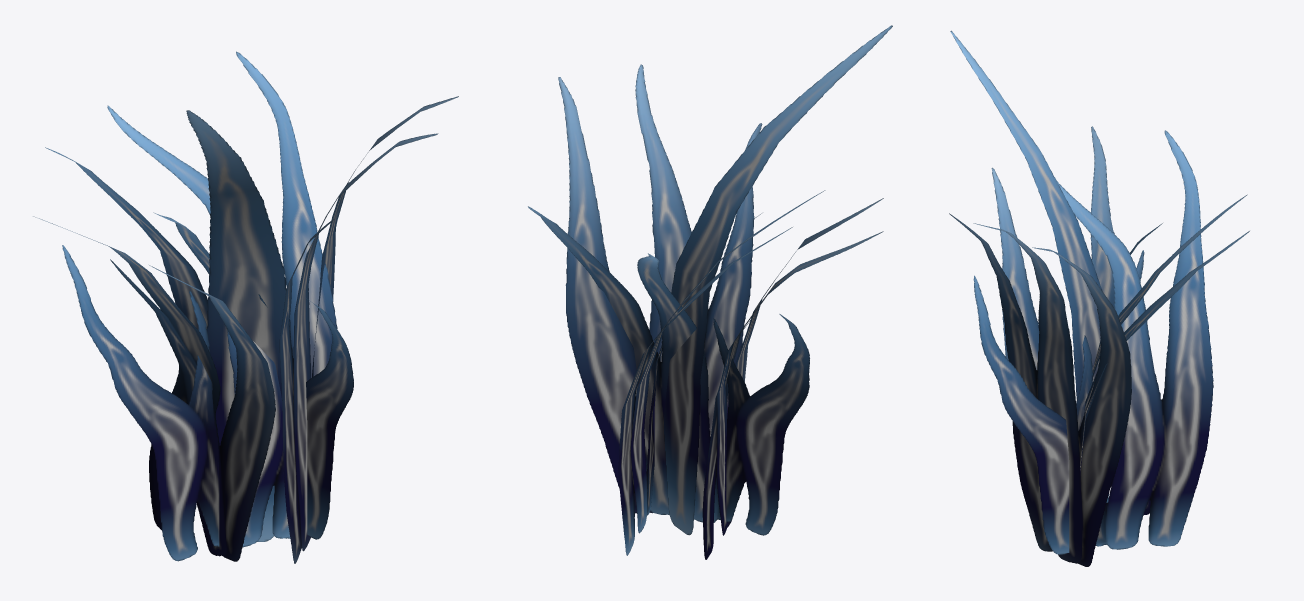
File: MarshGrassClump_b01.fbx
3 renders of one model, left to right at view 1: azimuth 30°, elevation 25°; view 2: azimuth 150°, elevation 25°; view 3: azimuth 270°, elevation 25°, orthographic. The views are drawn at different scales.
Visible parts, largest first — view 1: GrassClump_b01; view 2: GrassClump_b01; view 3: GrassClump_b01.
Boxes of the visible parts, x1,y1,x2,y2 form: GrassClump_b01: (33,51,458,563); GrassClump_b01: (528,25,892,559); GrassClump_b01: (949,30,1249,566).
Bounding box in the file's own units: 214 × 265 × 179.
